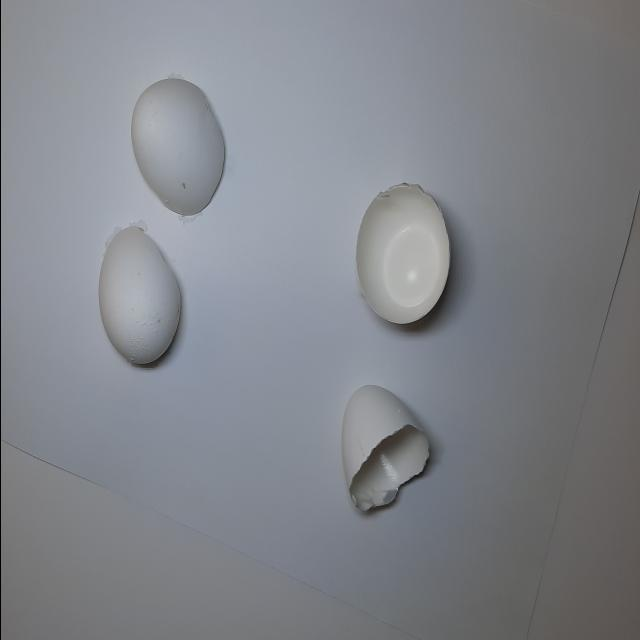egg shell: (344, 171, 458, 339), (122, 60, 235, 224), (327, 373, 439, 528), (92, 215, 188, 376)
